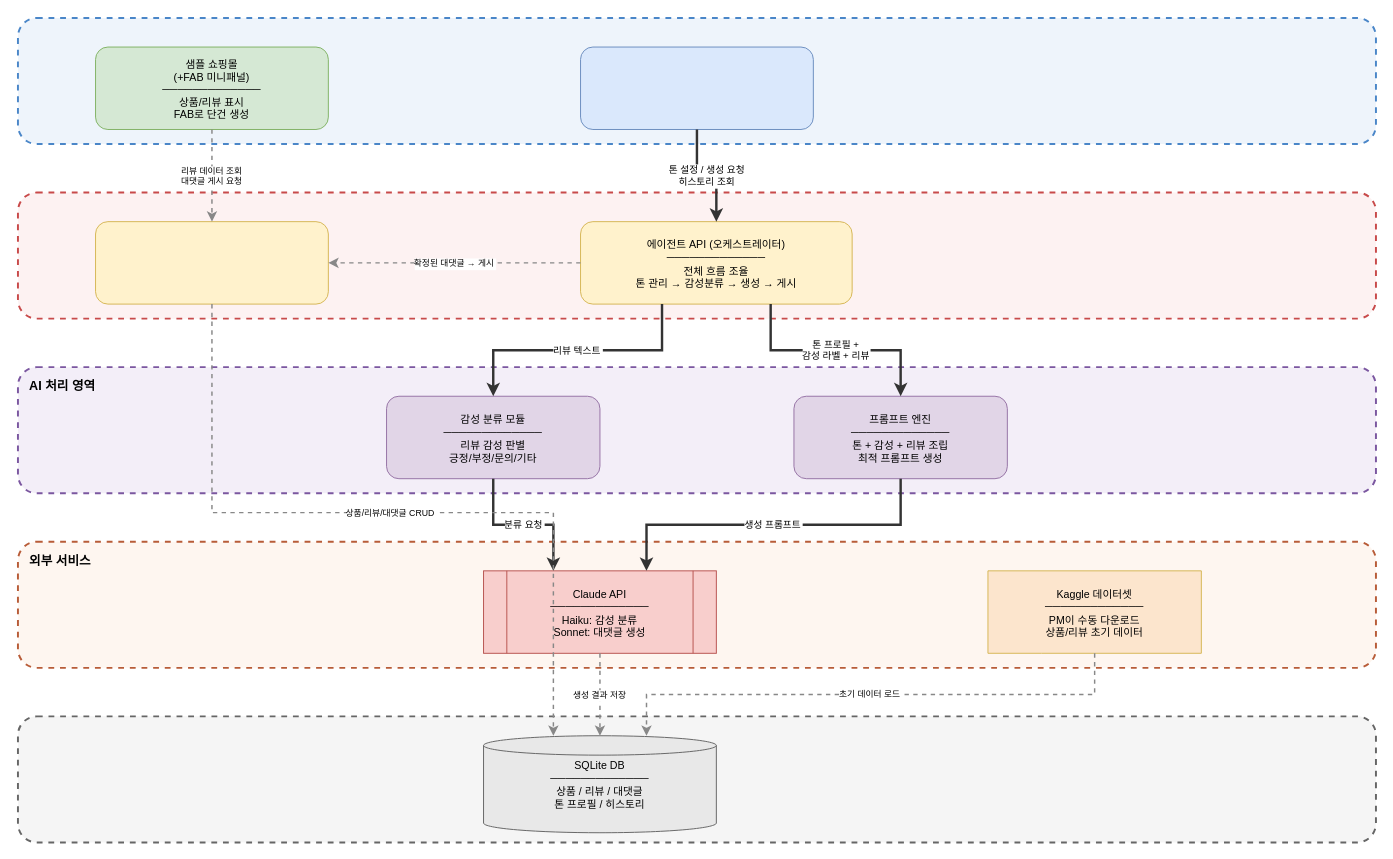
The diagram is 1393 pixels wide and 859 high, and some of its shapes have lost their labels. Here are the shapes that lost their labels. From the top down, the box of each, then its label:
(16, 16, 1376, 145): 프론트엔드 (Next.js)
(580, 46, 813, 129): 에이전트 대시보드 ───────────── 톤 설정 / 일괄 생성 히스토리 / 운영자 메인 공간
(95, 221, 328, 304): 쇼핑몰 API ───────────── 상품/리뷰/대댓글 CRUD 데이터 조회 및 게시 처리
(16, 191, 1376, 319): 백엔드 API (FastAPI)
(16, 715, 1376, 843): 데이터 레이어
